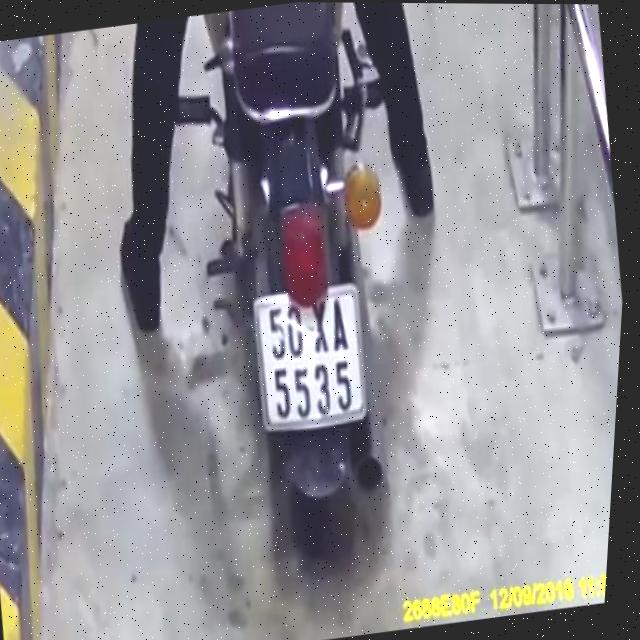motorcycle: (110, 1, 480, 608)
plate: (237, 279, 382, 446)
